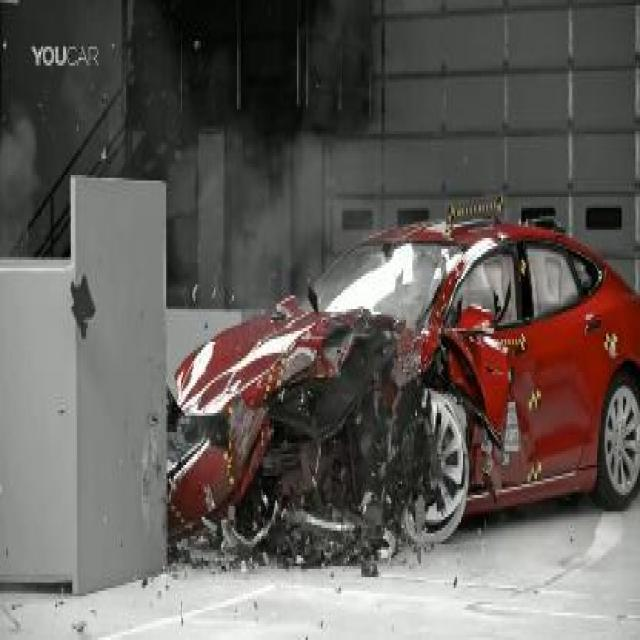accident: (66, 161, 640, 577)
